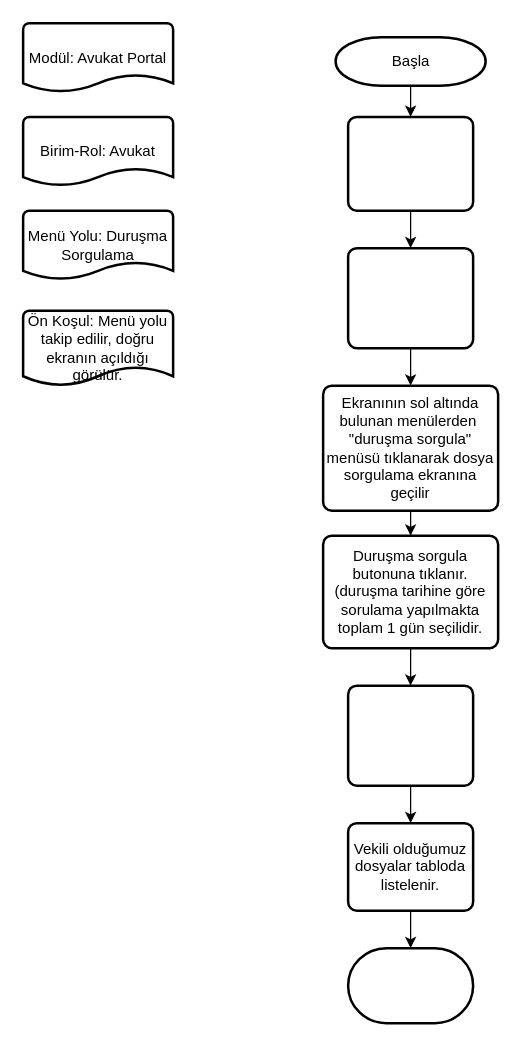
The diagram is 520 pixels wide and 1045 high, and some of its shapes have lost their labels. The shapes that lost their labels are listed below. From the top down, each one's box as (x1, y1, x2, y2) in pixels, then its label:
(346, 115, 474, 211): "avukat.uyap.gov.tr" adresinden Avukat Portal sayfasına giriş yapılır.
(346, 246, 474, 349): Kullanıcı adı girilerek Avukat Portal ekranına girilir.
(346, 684, 474, 786): Sorgulamak istediğimiz duruşmalar ekranın altında görüntülenir.
(346, 946, 474, 1024): Bitir
